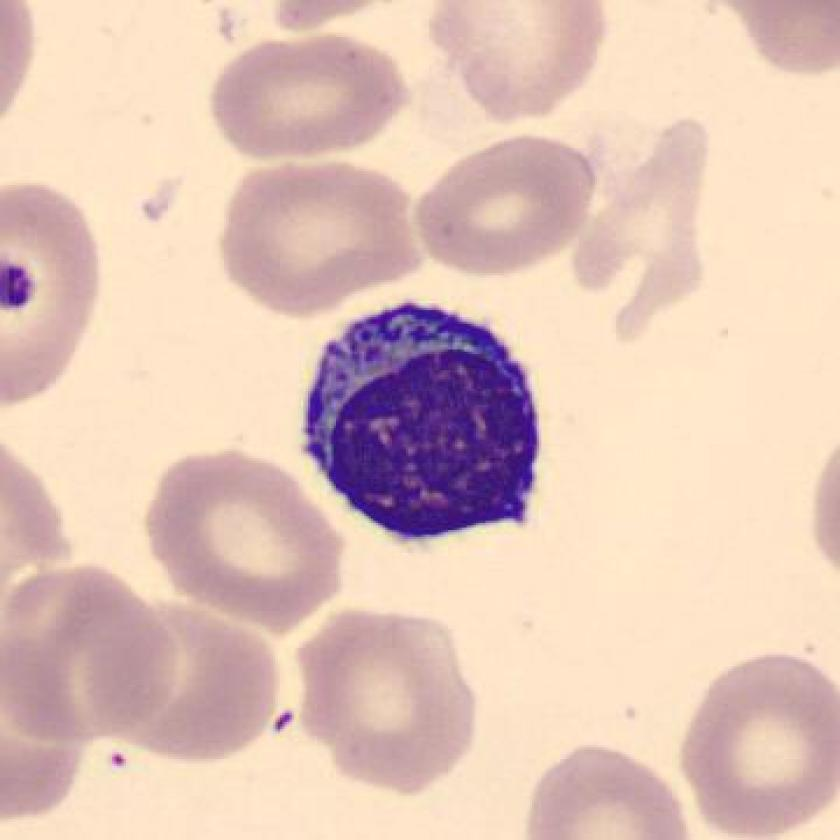lymphocyte: (281, 279, 559, 563)
